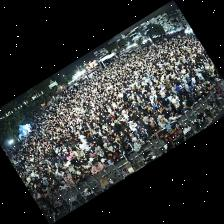person: (121, 142, 133, 166), (172, 93, 182, 114), (158, 116, 171, 132), (153, 108, 164, 125), (148, 122, 160, 137), (161, 92, 171, 109), (144, 117, 157, 130), (103, 138, 115, 152), (133, 137, 145, 151), (165, 110, 179, 122), (154, 98, 165, 113), (92, 161, 104, 174), (111, 139, 121, 154), (180, 96, 189, 112), (72, 173, 83, 186), (79, 167, 91, 178), (108, 151, 120, 162), (134, 107, 143, 121), (129, 120, 138, 134), (95, 133, 104, 147), (58, 180, 69, 191), (127, 132, 137, 144), (67, 161, 77, 173), (137, 125, 149, 135), (193, 87, 201, 101), (186, 92, 194, 106), (176, 81, 184, 95), (139, 131, 149, 142), (76, 156, 87, 166), (119, 132, 129, 143), (171, 82, 179, 95), (62, 172, 73, 181), (101, 158, 112, 167), (50, 184, 61, 193), (95, 147, 104, 157), (65, 151, 75, 160), (90, 143, 100, 152), (184, 80, 191, 92), (92, 153, 101, 162), (165, 79, 172, 90), (76, 149, 85, 157), (109, 117, 118, 125), (111, 133, 120, 141), (83, 161, 92, 169), (189, 81, 195, 93), (211, 77, 219, 85), (207, 81, 214, 90), (139, 114, 144, 126), (42, 187, 48, 197), (74, 166, 81, 174), (168, 142, 175, 150), (104, 148, 109, 159), (47, 187, 52, 198), (47, 178, 56, 184), (89, 152, 94, 161), (63, 167, 70, 173)
